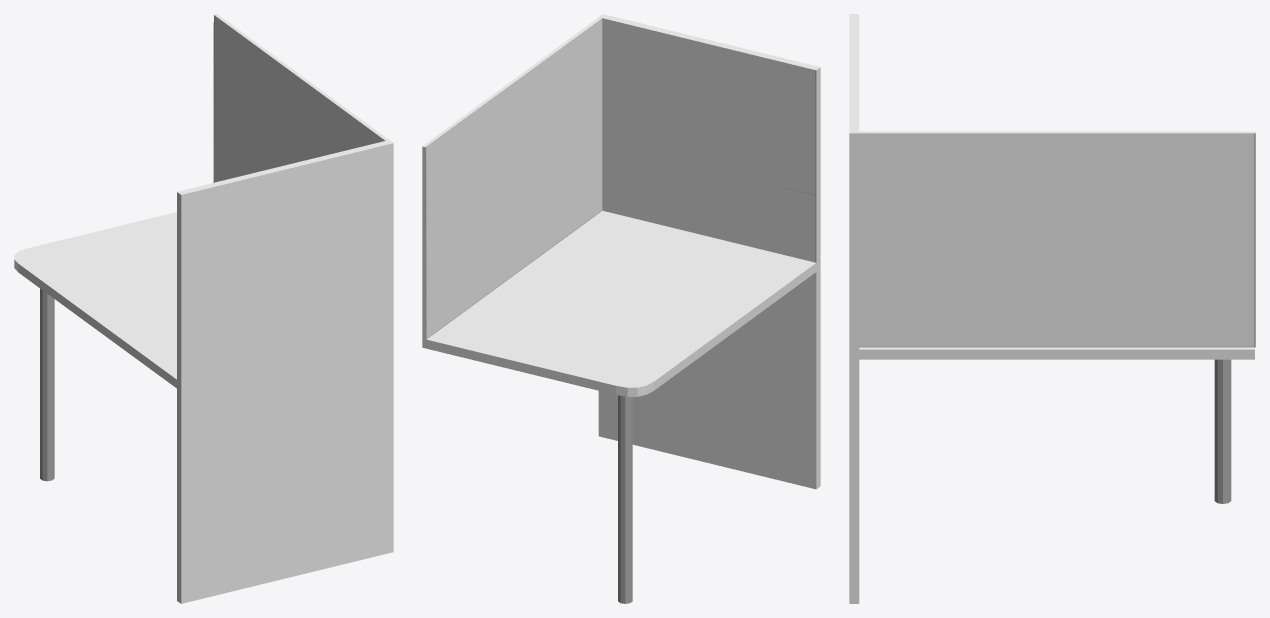
The model's file is ComptoirBreakMachine.fbx.
3 renders of one model, left to right at view 1: azimuth 30°, elevation 25°; view 2: azimuth 150°, elevation 25°; view 3: azimuth 270°, elevation 25°, orthographic. The views are drawn at different scales.
Visible parts, largest first — view 1: ComptoirBreak_LowPoly; view 2: ComptoirBreak_LowPoly; view 3: ComptoirBreak_LowPoly.
Part boxes in pixels (left/top/right/bottom): ComptoirBreak_LowPoly: left=14, top=14, right=393, bottom=603; ComptoirBreak_LowPoly: left=422, top=14, right=820, bottom=603; ComptoirBreak_LowPoly: left=849, top=14, right=1255, bottom=603.
Bounding box in the file's own units: 105 × 193 × 151.
Materials: 1 (1 with a texture image).
